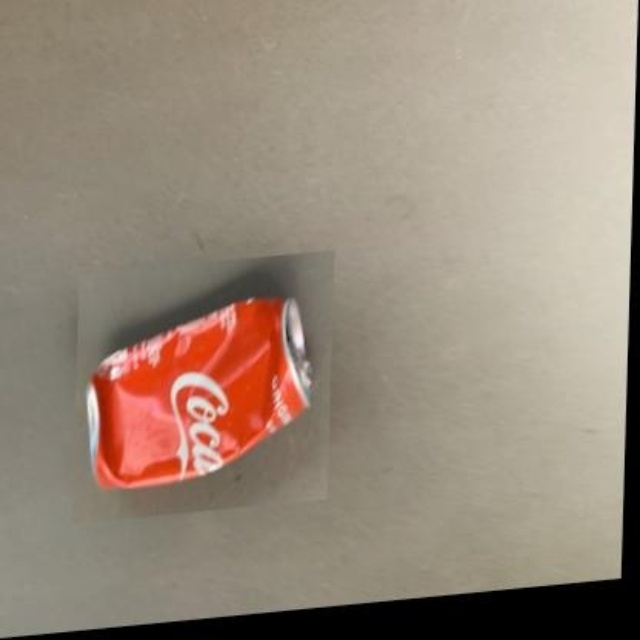trash: (86, 297, 311, 486)
